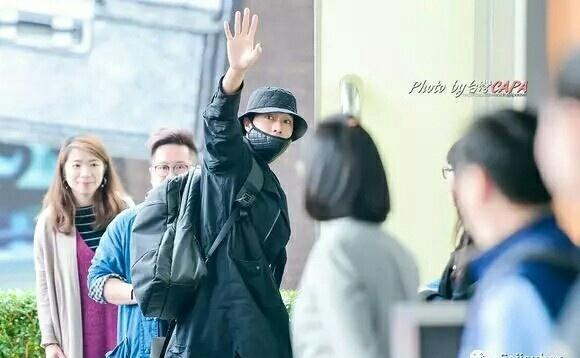NONE: (154, 158, 195, 198), (68, 154, 104, 194)
WRONG: (245, 108, 296, 159)
